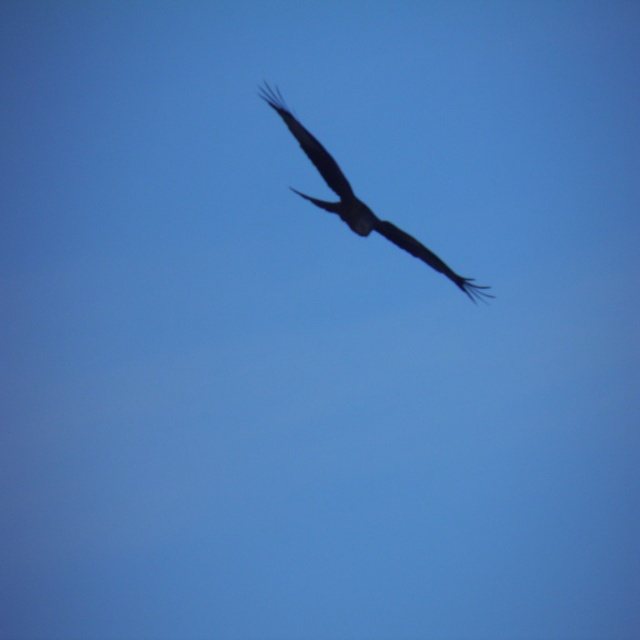Eagle: (258, 70, 501, 323)
